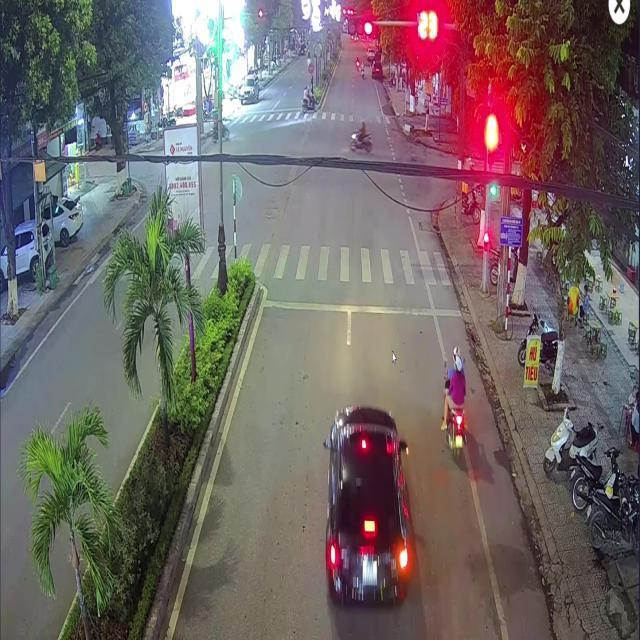car: (322, 405, 413, 604)
motobike: (440, 345, 465, 452)
red_light: (484, 110, 498, 172), (345, 13, 372, 38)
stop_line: (262, 299, 460, 316)
